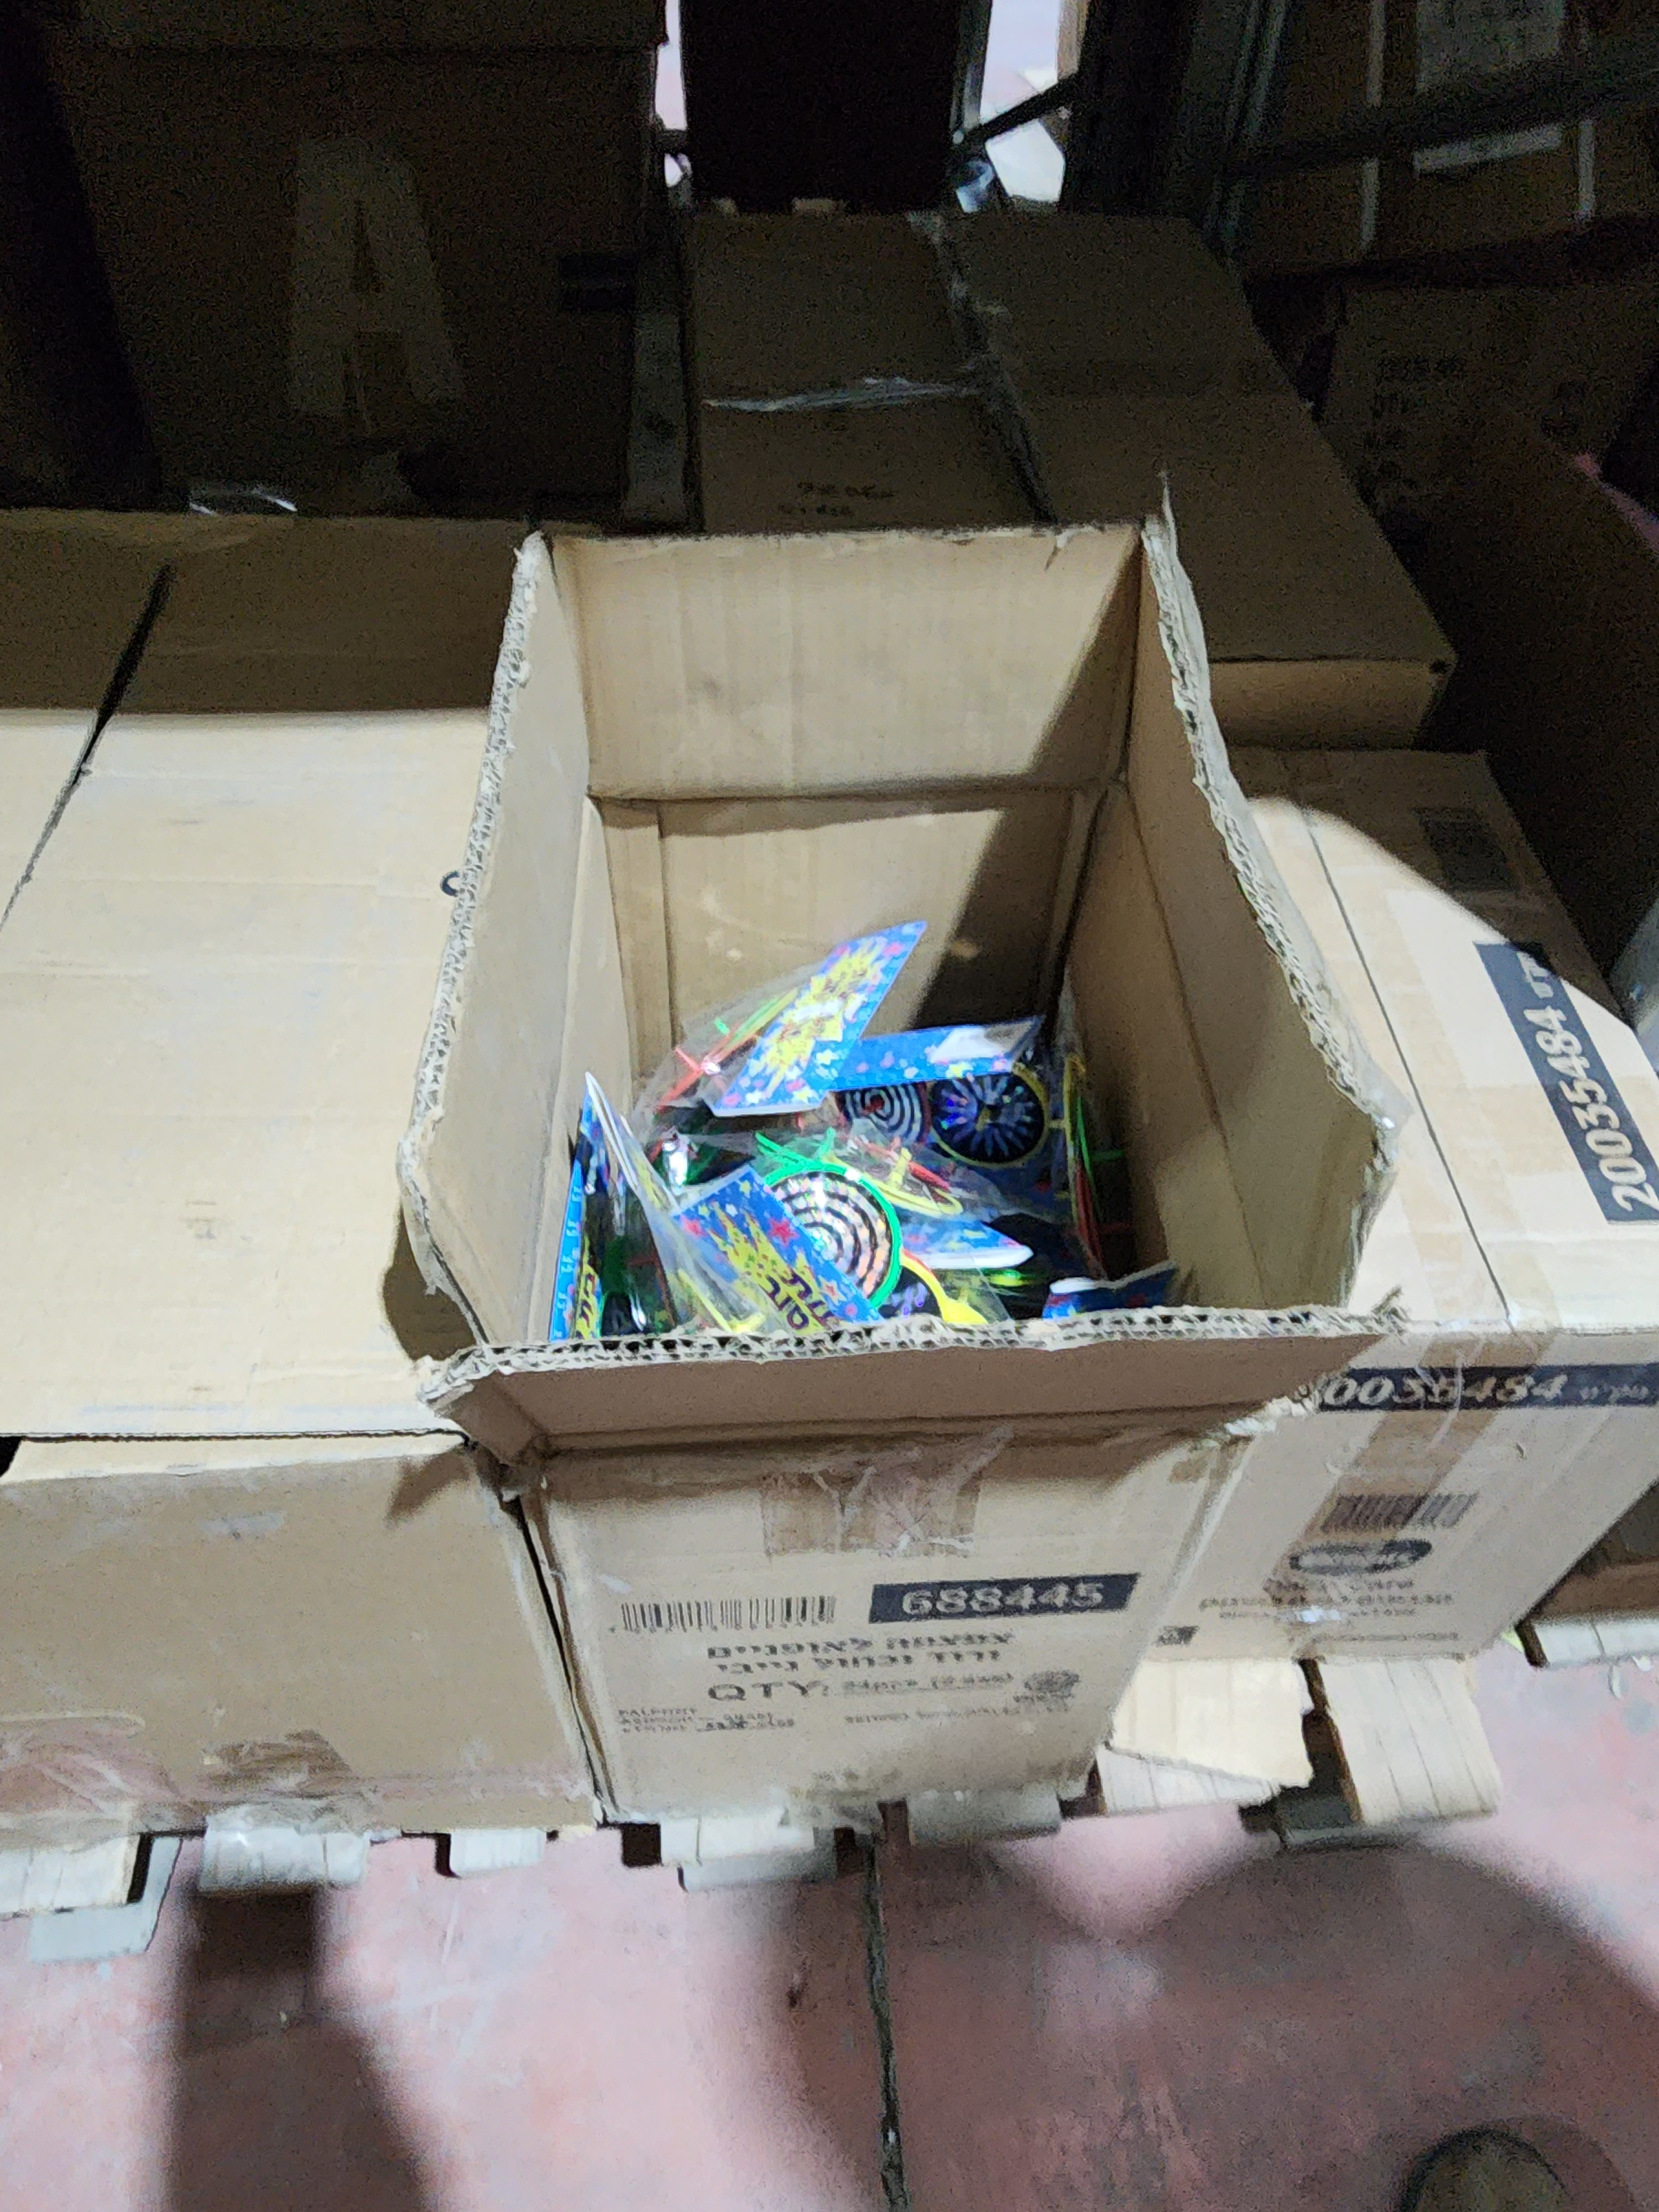box: (448, 484, 1406, 1583)
